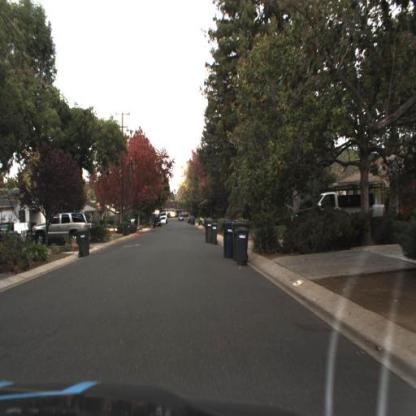car: (26, 197, 100, 257), (300, 182, 382, 218), (159, 210, 168, 225), (152, 217, 162, 228), (178, 214, 183, 221)
